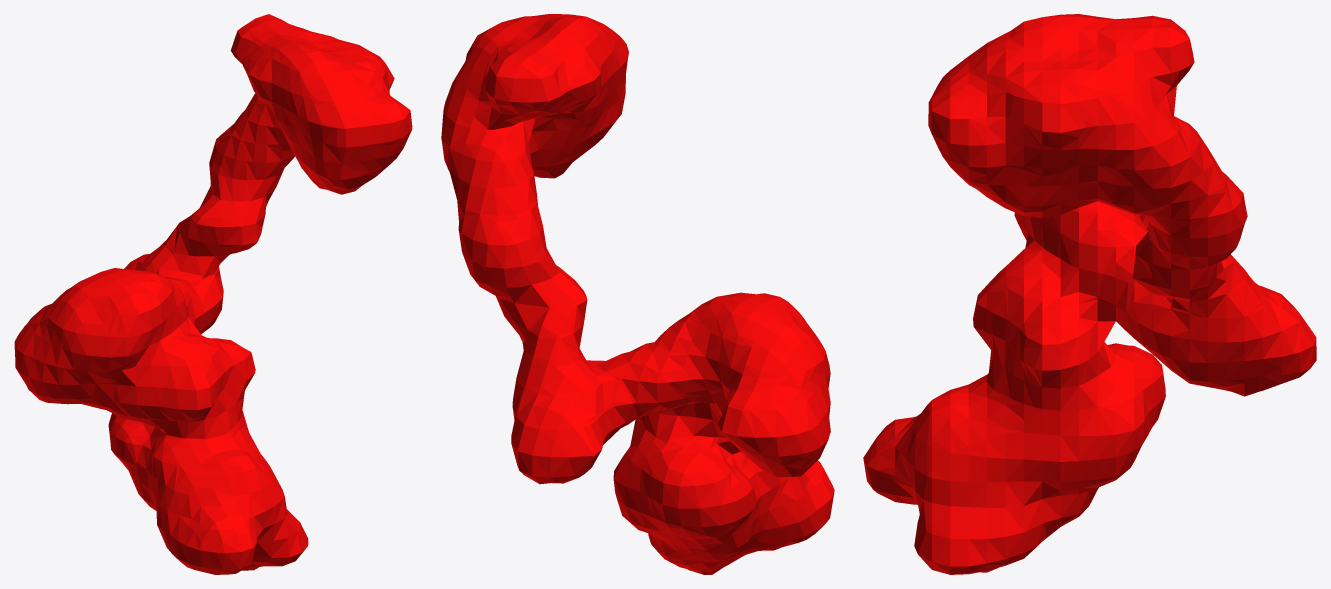
The model's file is fliA_coarse.dae.
3 views of the same model, side by side, from view 1: azimuth 30°, elevation 25°; view 2: azimuth 150°, elevation 25°; view 3: azimuth 270°, elevation 25° (orthographic). The views are drawn at different scales.
Parts seen in each view (by area): view 1: fliA; view 2: fliA; view 3: fliA.
Boxes of the visible parts, x1,y1,x2,y2 form: fliA: (14, 14, 412, 574); fliA: (441, 14, 834, 574); fliA: (863, 14, 1316, 574).
Bounding box in the file's own units: 72.1 × 97.22 × 65.82.
